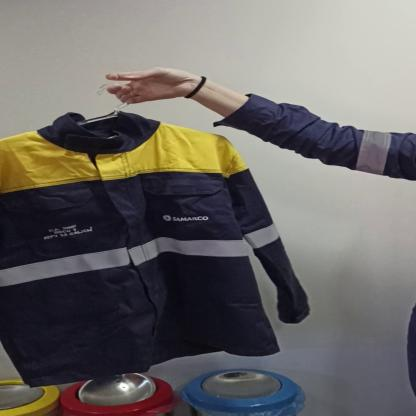C_eletrica: (0, 112, 314, 384)
